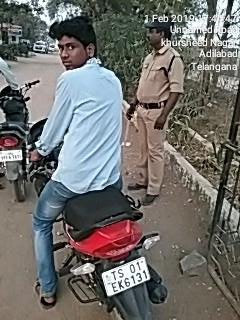plate: (93, 256, 154, 298)
